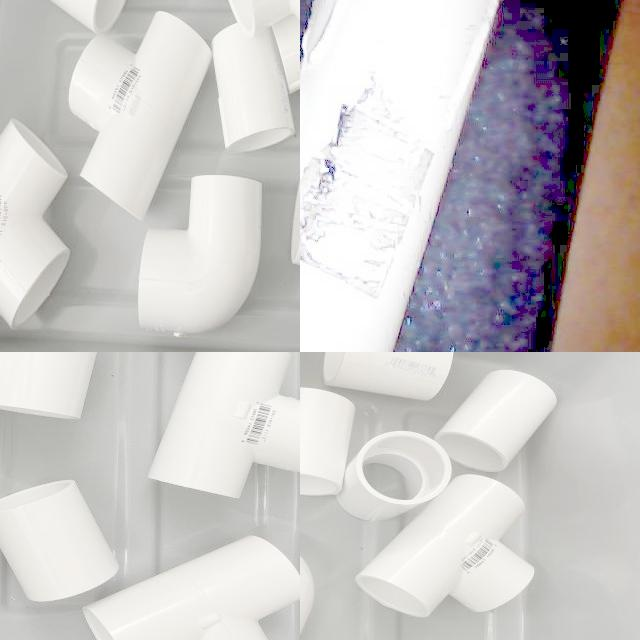Defective: (300, 82, 441, 314), (450, 0, 500, 113), (300, 0, 383, 66)
L Joint: (136, 175, 263, 339), (0, 119, 71, 330)
T Joint: (300, 0, 501, 352), (68, 11, 212, 222), (355, 474, 534, 619), (146, 352, 300, 501), (82, 536, 300, 640)
